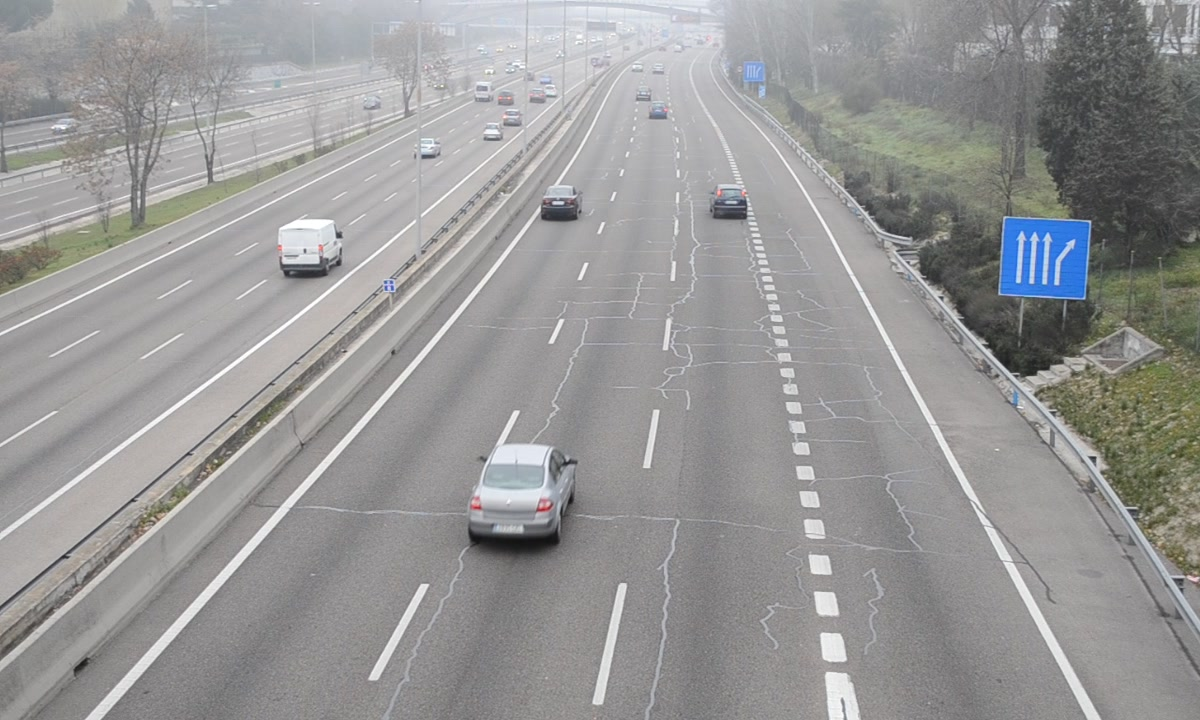car: (468, 446, 575, 542), (540, 184, 579, 220), (712, 183, 749, 218)
